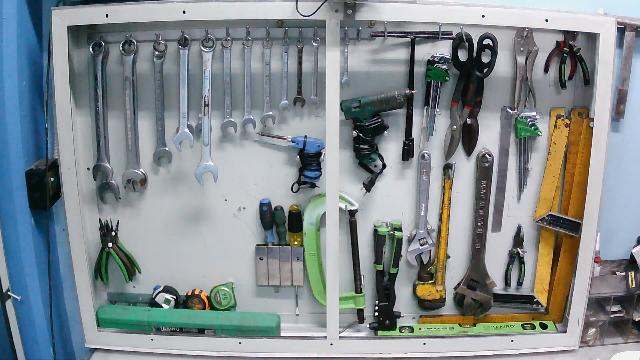kunci_inggris: (405, 149, 437, 272)
